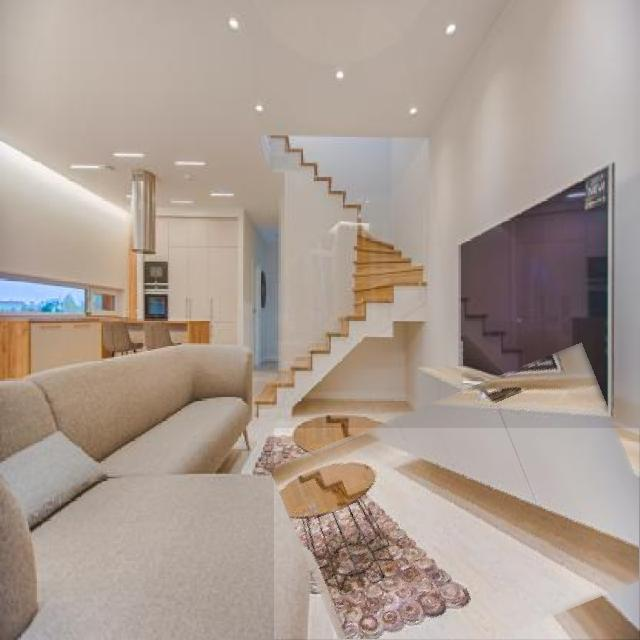floor: (274, 429, 640, 640)
